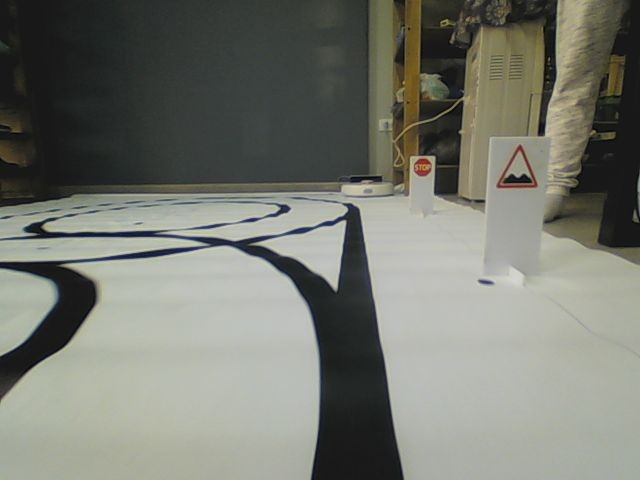Stop: (413, 158, 432, 177)
